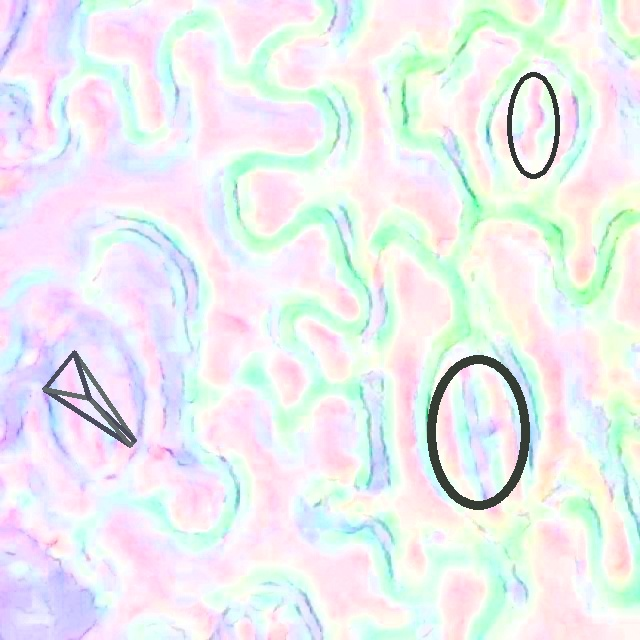close: (42, 350, 136, 447), (506, 71, 560, 178)
open: (426, 353, 530, 510)
